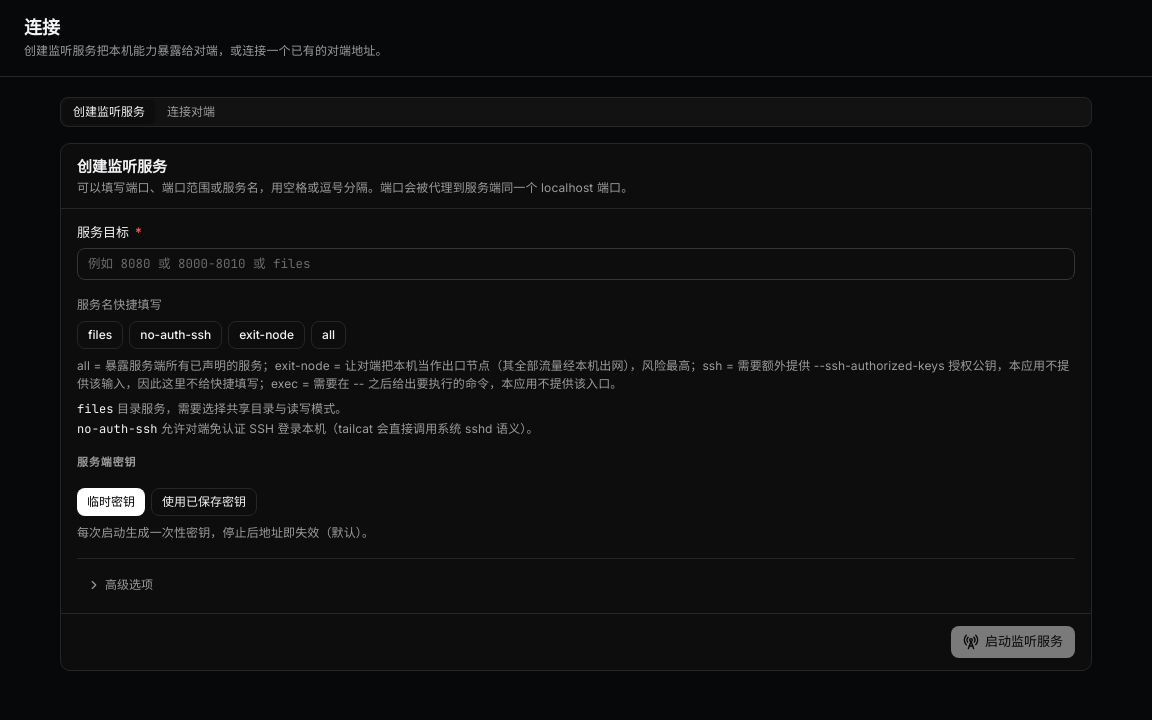
ConnectionsScreen › reports invalid serve targets and refuses to submit
Type "8080 70000" into the field labelled "服务目标 *" at [576, 264], box [77, 248, 1075, 280]
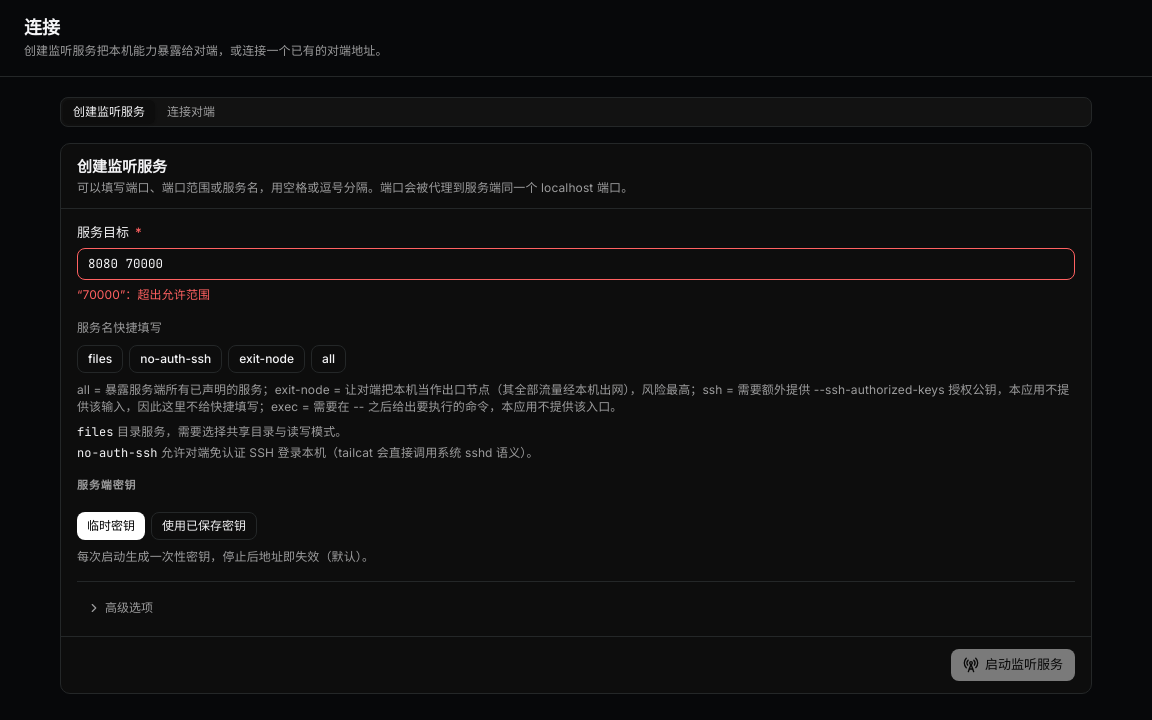
Expected: the button "启动监听服务" is disabled, [951, 649, 1075, 681]
Expected: the text "“70000”：超出允许范围" is shown, [77, 287, 210, 302]
